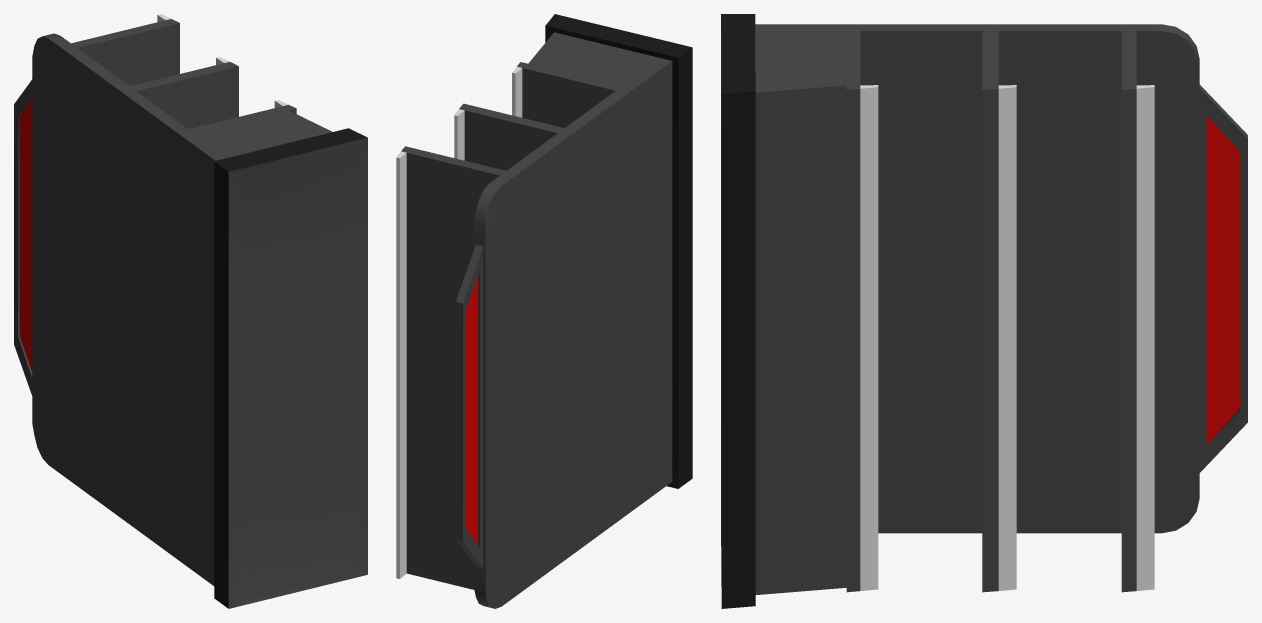
The model's file is Shelf_4.fbx.
The picture shows the model from 3 angles, left to right: view 1: azimuth 30°, elevation 25°; view 2: azimuth 150°, elevation 25°; view 3: azimuth 270°, elevation 25°; orthographic projection. The views are drawn at different scales.
Parts seen in each view (by area): view 1: Cube.002; view 2: Cube.002; view 3: Cube.002.
Part boxes in pixels (left/top/right/bottom): Cube.002: left=14, top=14, right=367, bottom=608; Cube.002: left=396, top=14, right=692, bottom=608; Cube.002: left=721, top=14, right=1247, bottom=608.
Bounding box in the file's own units: 1.19 × 3.57 × 3.31.
